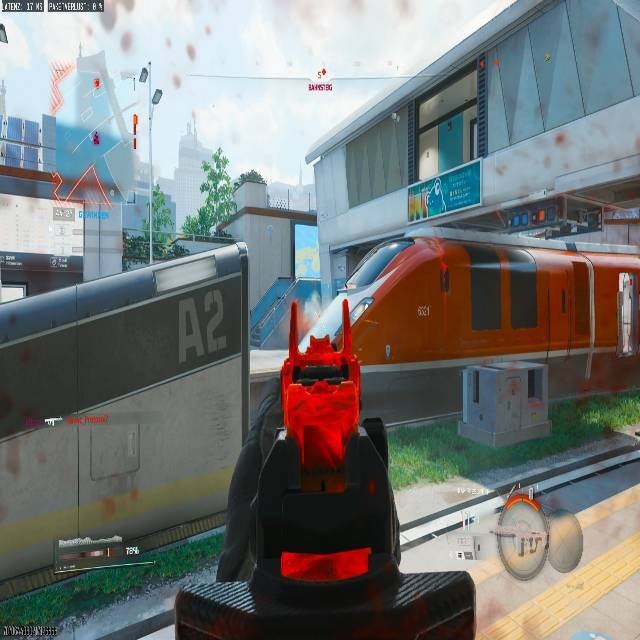head: (495, 490, 548, 567)
player: (461, 486, 580, 637)
